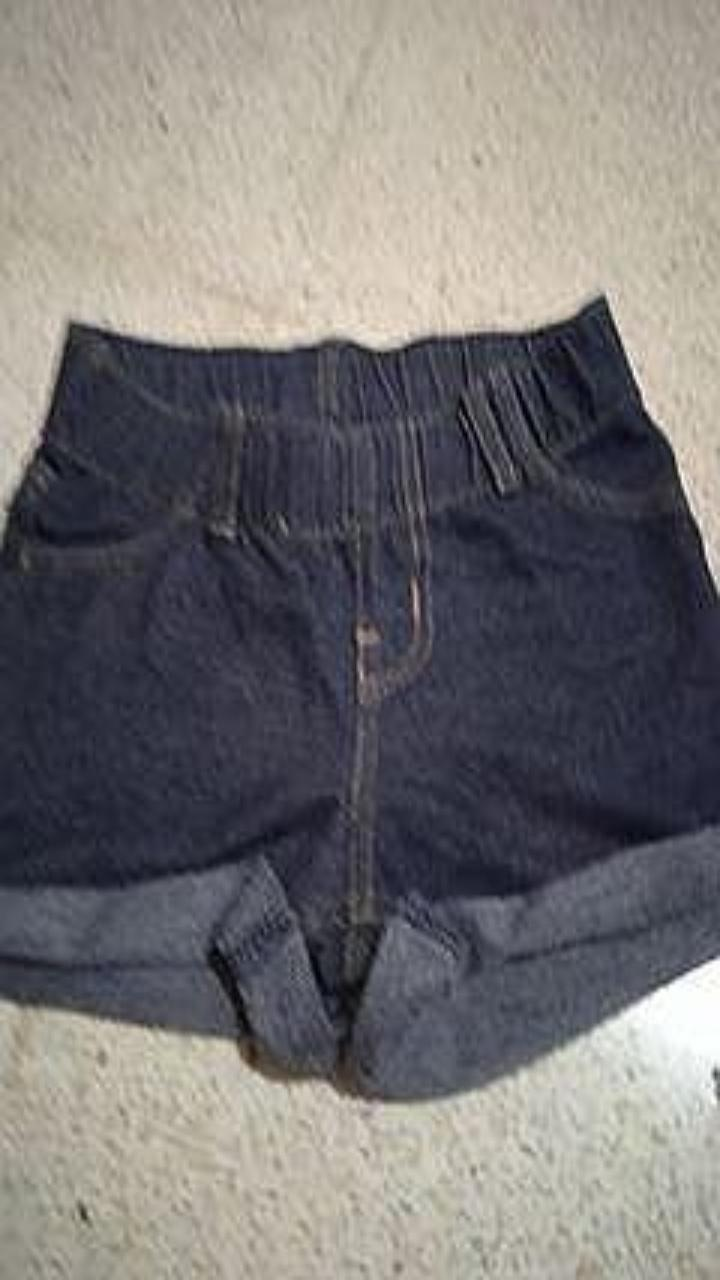Shorts: (0, 295, 719, 1098)
